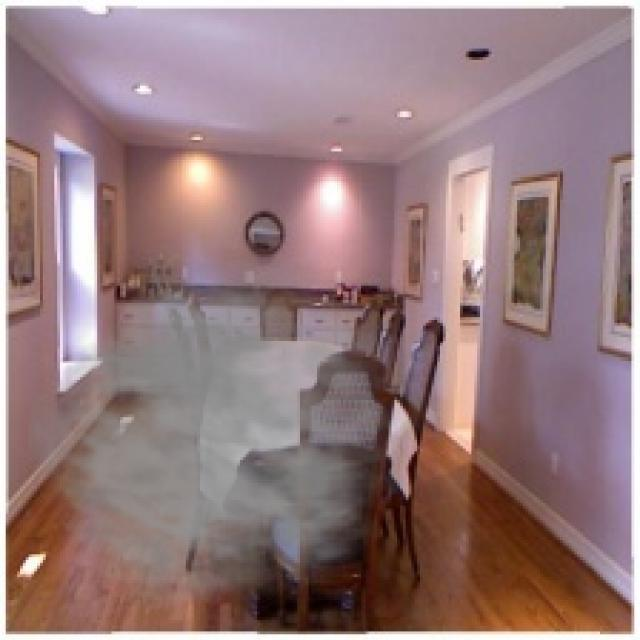Smoke: (26, 246, 437, 614)
